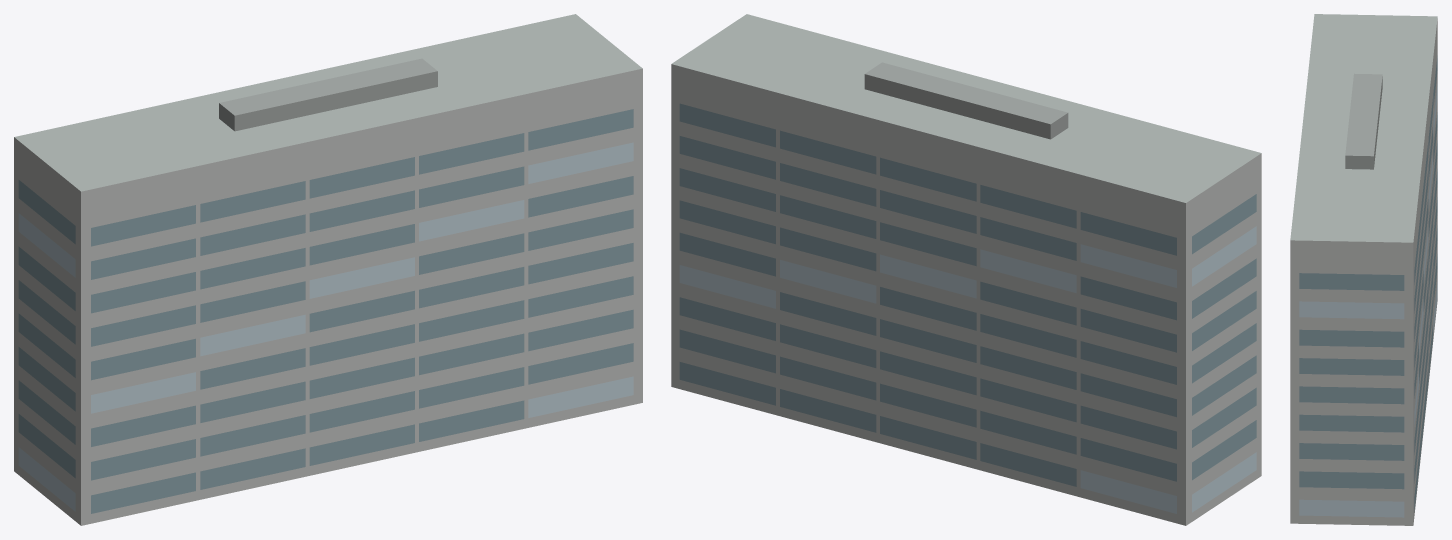
Rendered from apt-a13676704.glb.
The picture shows the model from 3 angles, left to right: view 1: azimuth 30°, elevation 25°; view 2: azimuth 150°, elevation 25°; view 3: azimuth 270°, elevation 25°; orthographic projection. The views are drawn at different scales.
Parts seen in each view (by area): view 1: apt-a13676704; view 2: apt-a13676704; view 3: apt-a13676704.
Boxes of the visible parts, x1,y1,x2,y2 form: apt-a13676704: [14, 14, 642, 525]; apt-a13676704: [671, 14, 1261, 525]; apt-a13676704: [1290, 14, 1437, 525].
Bounding box in the file's own units: 49.62 × 30 × 13.53.
